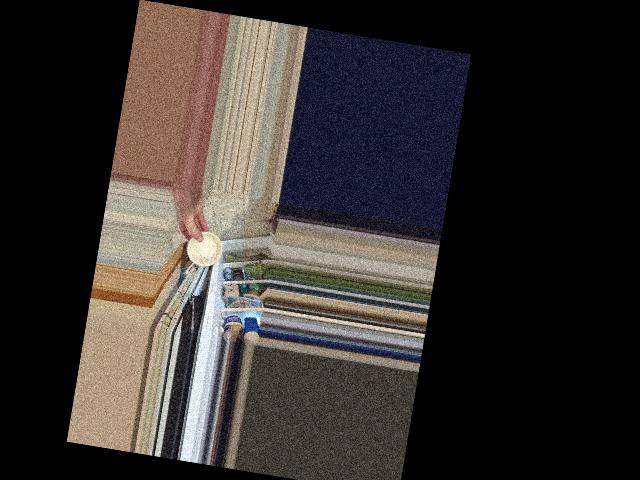cotage: (182, 230, 225, 271)
